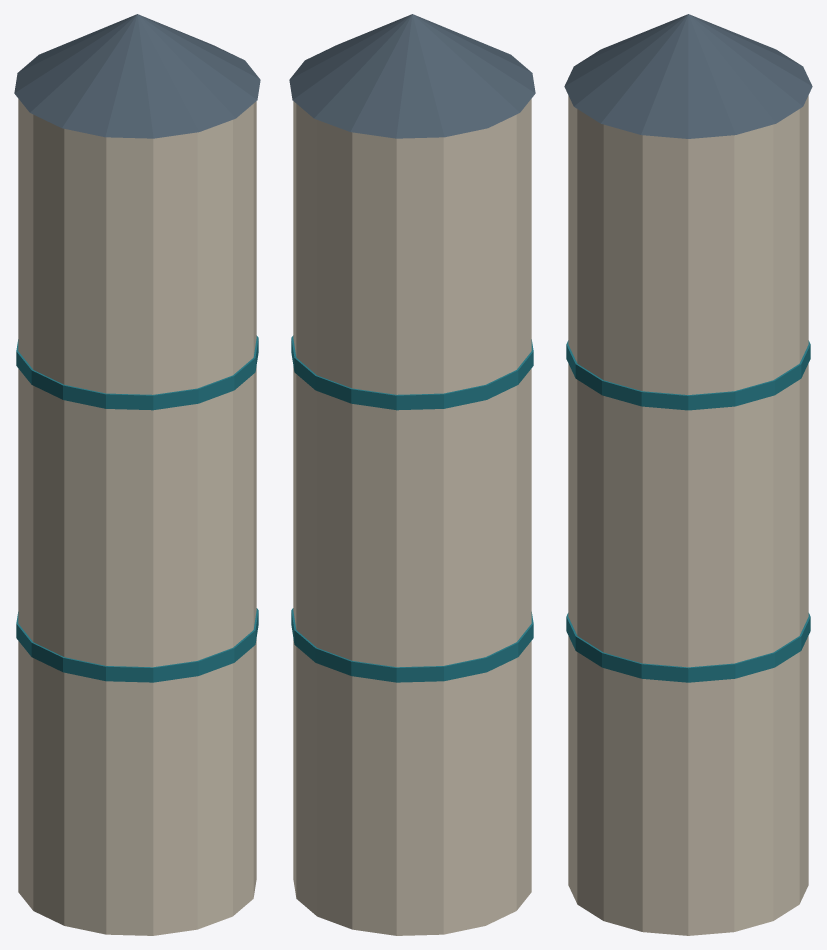
Rendered from silo.glb.
The picture shows the model from 3 angles, left to right: view 1: azimuth 30°, elevation 25°; view 2: azimuth 150°, elevation 25°; view 3: azimuth 270°, elevation 25°; orthographic projection.
Visible parts, largest first — view 1: silo; view 2: silo; view 3: silo.
Part boxes in pixels (x1,y1,x2,y2): silo: (14, 14, 260, 935); silo: (289, 14, 535, 935); silo: (564, 14, 812, 935).
Size of the model in its own units: 0.62 by 2.4 by 0.62.
